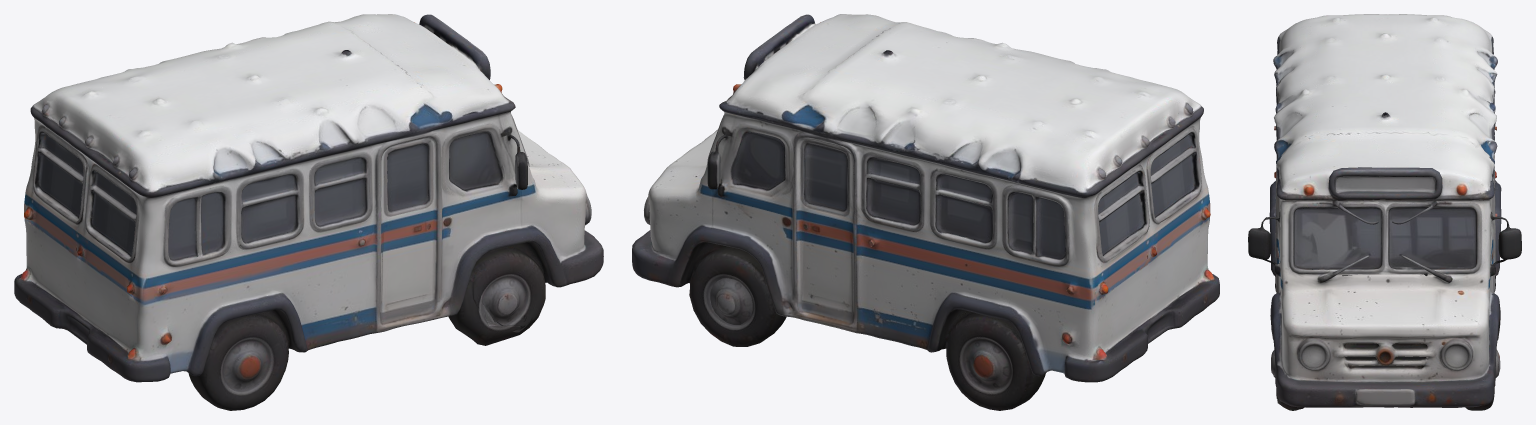
The model's file is tomsk_paz.glb.
3 renders of one model, left to right at view 1: azimuth 30°, elevation 25°; view 2: azimuth 150°, elevation 25°; view 3: azimuth 270°, elevation 25°, orthographic. The views are drawn at different scales.
Visible parts, largest first — view 1: tripo_node_26ca2af6-0b71-4952-bbc5-01d1daa5c4f7; view 2: tripo_node_26ca2af6-0b71-4952-bbc5-01d1daa5c4f7; view 3: tripo_node_26ca2af6-0b71-4952-bbc5-01d1daa5c4f7.
Part boxes in pixels (box(x1,y1,x2,y2)): tripo_node_26ca2af6-0b71-4952-bbc5-01d1daa5c4f7: box(14, 14, 603, 410); tripo_node_26ca2af6-0b71-4952-bbc5-01d1daa5c4f7: box(632, 14, 1219, 410); tripo_node_26ca2af6-0b71-4952-bbc5-01d1daa5c4f7: box(1248, 14, 1521, 410).
Size of the model in its own units: 0.9772 by 0.53 by 0.5282.
1 material, 1 textured.
